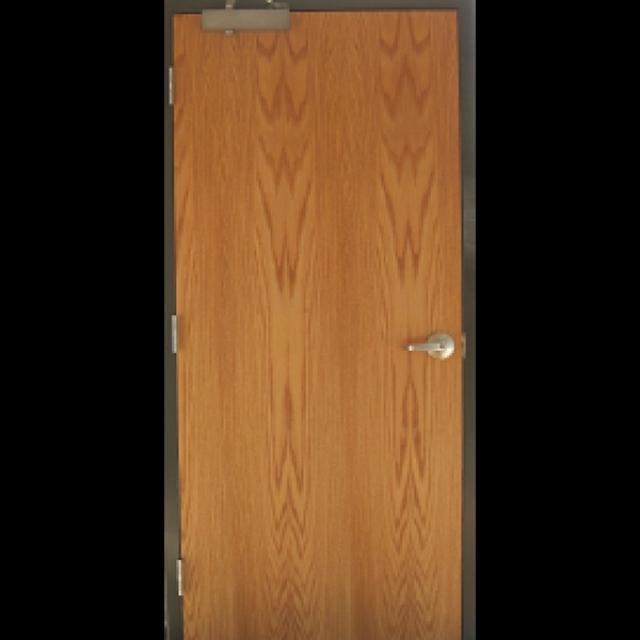door: (167, 1, 473, 640)
